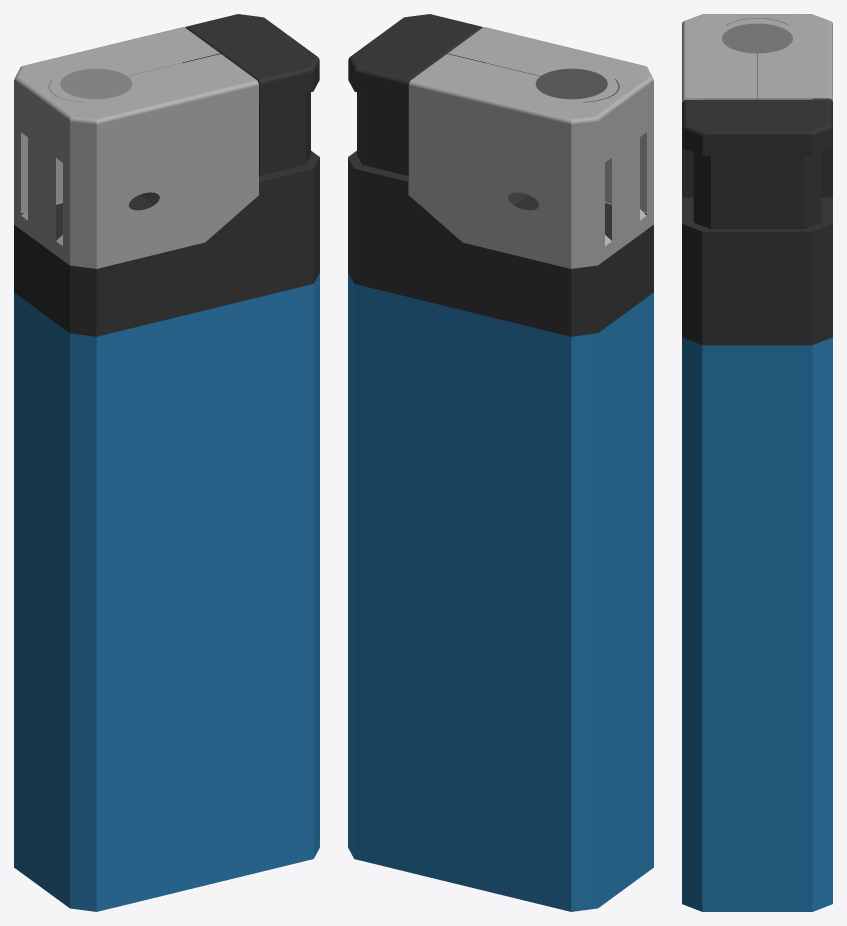
File: ligther.fbx
3 views of the same model, side by side, from view 1: azimuth 30°, elevation 25°; view 2: azimuth 150°, elevation 25°; view 3: azimuth 270°, elevation 25° (orthographic).
Visible parts, largest first — view 1: Cube, Cube.001; view 2: Cube, Cube.001; view 3: Cube, Cube.001.
Boxes of the visible parts, <box> form: Cube: <box>14,27,319,911</box>; Cube.001: <box>185,14,319,175</box>; Cube: <box>348,27,653,911</box>; Cube.001: <box>348,14,482,175</box>; Cube: <box>682,14,832,911</box>; Cube.001: <box>682,100,832,229</box>.
Size of the model in its own units: 408 by 1233 by 216.
